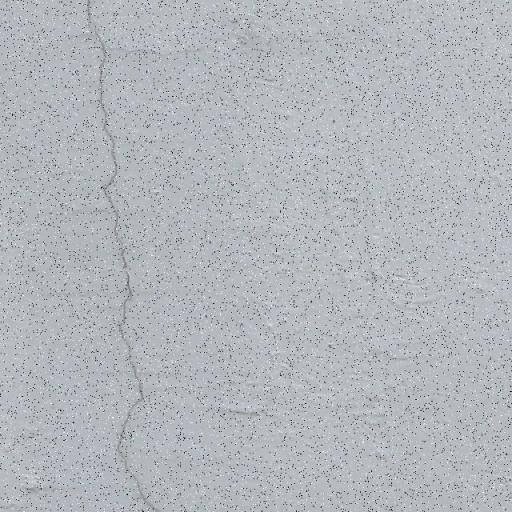moderate crack: (45, 0, 200, 512)
